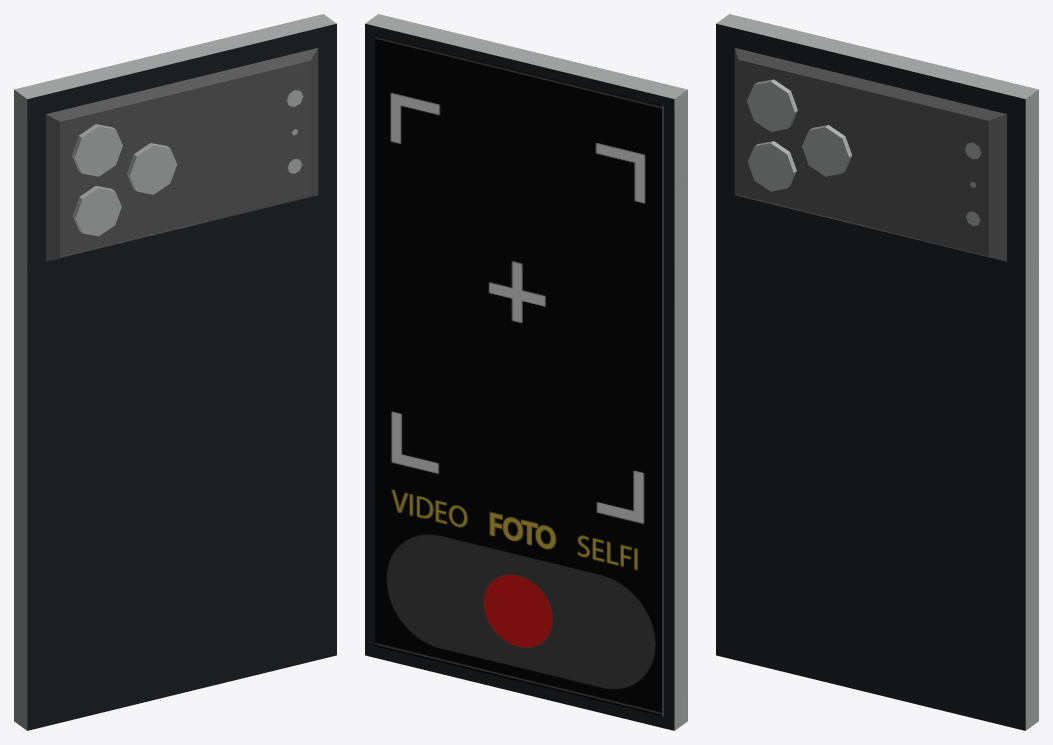
File: AIFON.fbx
3 renders of one model, left to right at view 1: azimuth 30°, elevation 25°; view 2: azimuth 150°, elevation 25°; view 3: azimuth 330°, elevation 25°, orthographic.
Visible parts, largest first — view 1: Celular; view 2: Pantalla, Celular; view 3: Celular.
Part boxes in pixels (x1,y1,x2,y2): Celular: (14, 14, 336, 730); Pantalla: (375, 35, 663, 716); Celular: (365, 14, 687, 730); Celular: (716, 14, 1038, 730).
Size of the model in its own units: 200 by 390 by 24.44.
Materials: 2 (2 with a texture image).
